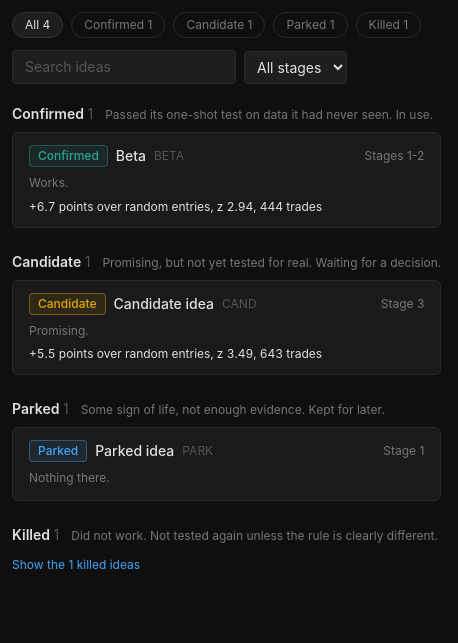
Scenario: IdeasTab › hides killed ideas until asked and filters by status
The image size is (458, 643).
Expected: the text "Beta" is shown, [116,146,146,166]
Expected: the text "Alpha idea" is not shown
Click the button "Show the 1 killed ideas" at (76, 564), box [12,556,140,572]
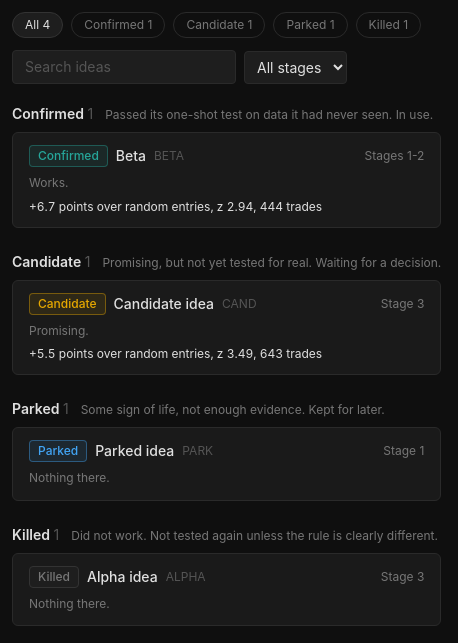
Now the text "Alpha idea" is shown, box [87,566,158,586]
Click the button "Parked 1" at (310, 25), box [274,12,348,38]
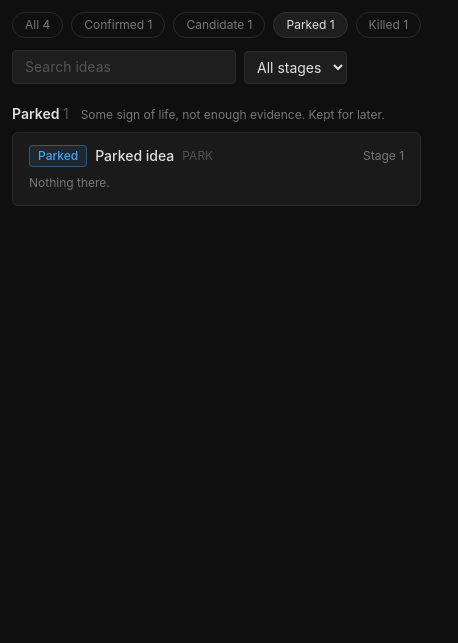
Expected: the text "Parked idea" is shown, [95,146,174,166]
Now the button "Beta" is gone
